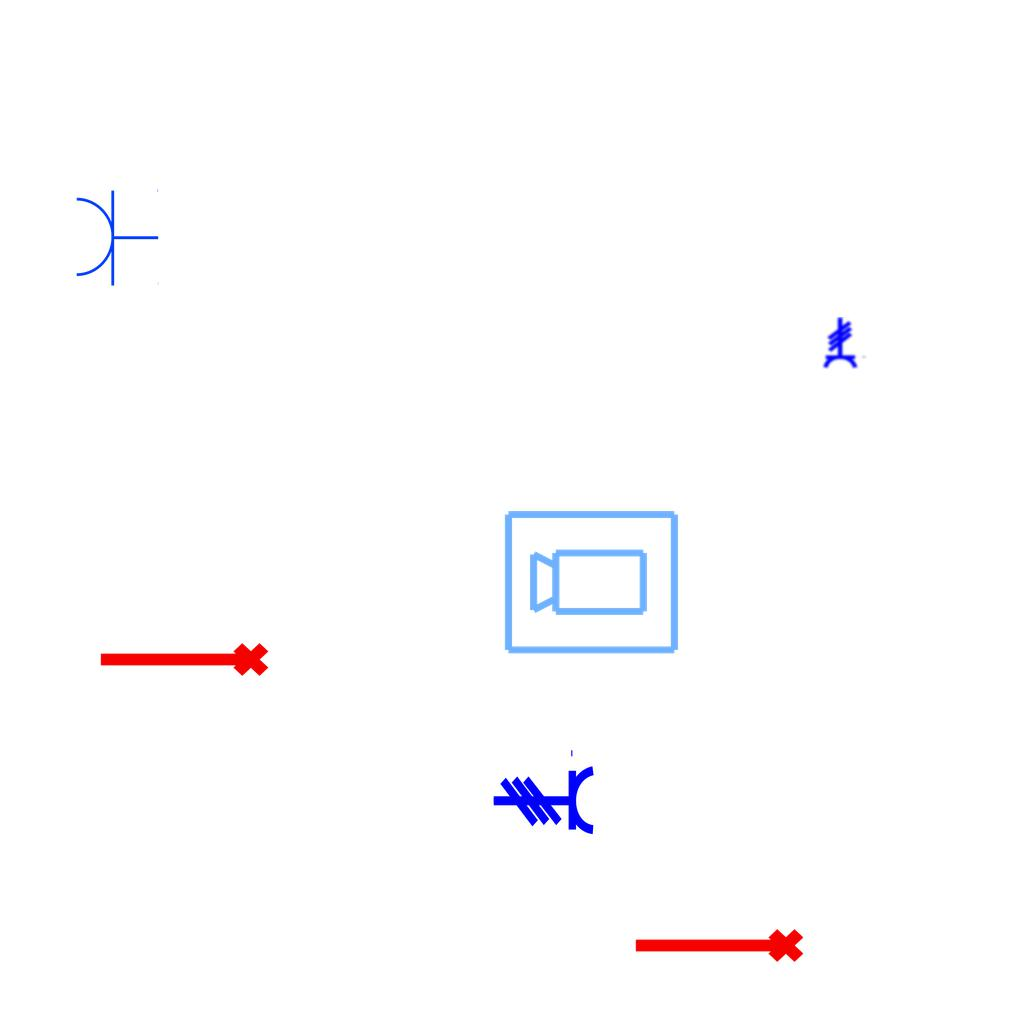ASR_Ansaugoeffnung: (630, 925, 806, 971), (95, 639, 271, 685)
CEE_Drehstrom_Steckdose_16_32_A: (492, 747, 596, 837), (822, 317, 867, 369)
KFO_Kamera_mit_Festobjektiv: (501, 504, 683, 658)
Schukosteckdose_einfach: (72, 187, 159, 287)
